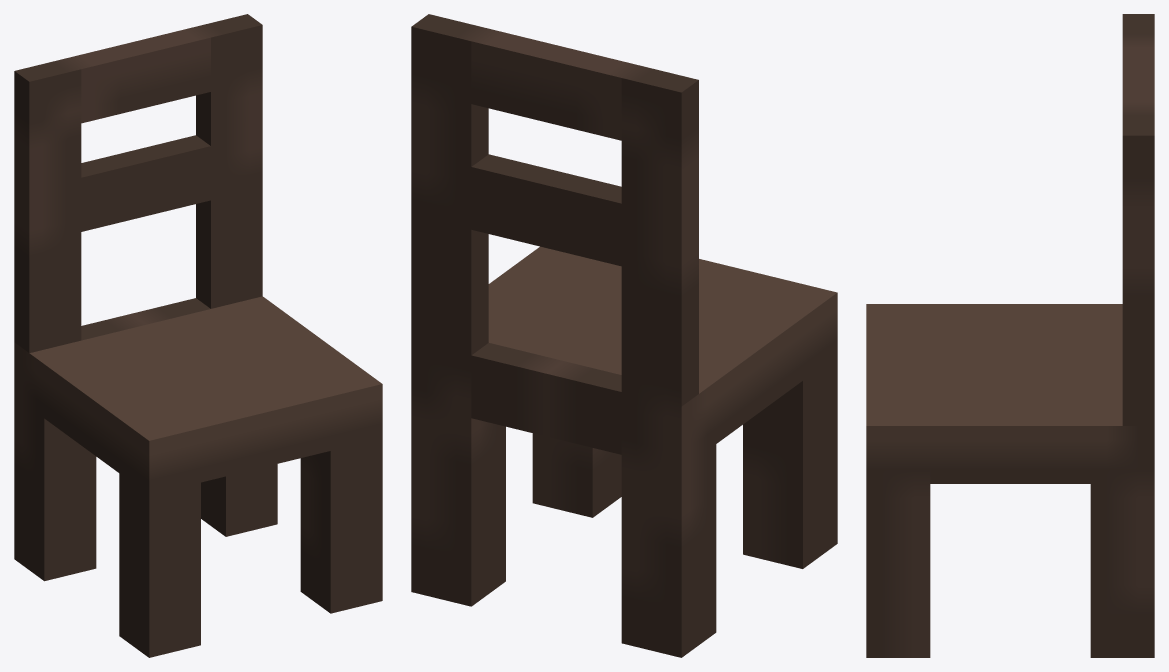
The model's file is Chair_Wooden-5_00.fbx.
3 renders of one model, left to right at view 1: azimuth 30°, elevation 25°; view 2: azimuth 150°, elevation 25°; view 3: azimuth 270°, elevation 25°, orthographic. The views are drawn at different scales.
Visible parts, largest first — view 1: Chair_Wooden-5_00; view 2: Chair_Wooden-5_00; view 3: Chair_Wooden-5_00.
Part boxes in pixels (box(x1,y1,x2,y2)): Chair_Wooden-5_00: box(14, 14, 382, 657); Chair_Wooden-5_00: box(411, 14, 837, 657); Chair_Wooden-5_00: box(866, 14, 1154, 657).
Size of the model in its own units: 45 by 90 by 45.
